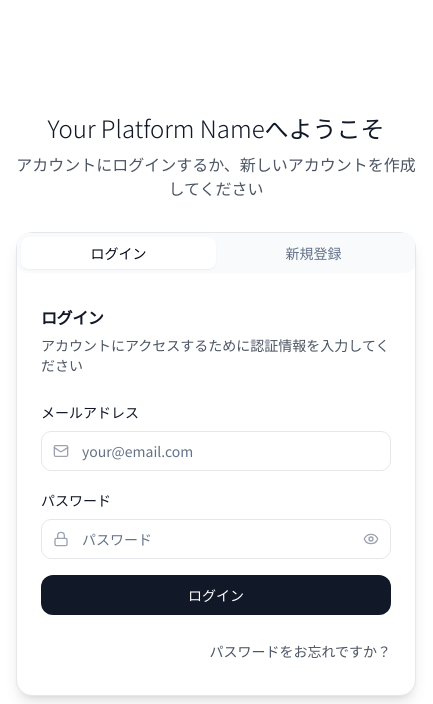
Scenario: Auth コンポーネント › サインアップ機能 › 新規登録タブの必要フィールドが表示される
Click the tab "新規登録" at {"x": 314, "y": 253}, box [216, 237, 411, 269]
(page scrolled)
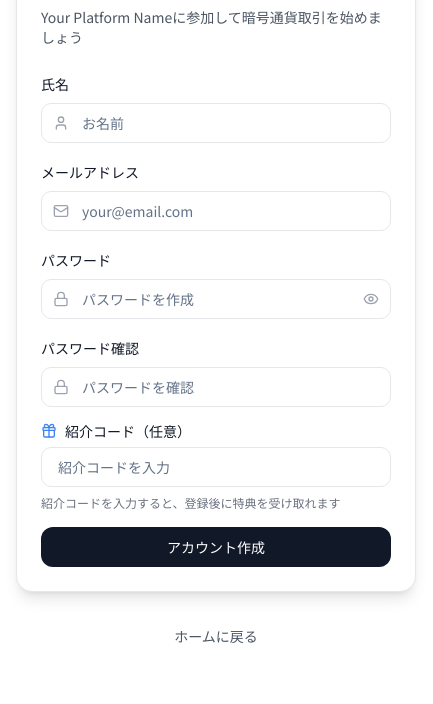
Result: the field labelled "氏名" is shown at [41, 103, 391, 143]
Result: the field labelled "メールアドレス" is shown at [41, 191, 391, 231]
Result: the password field labelled "パスワード" is shown at [41, 279, 391, 319]
